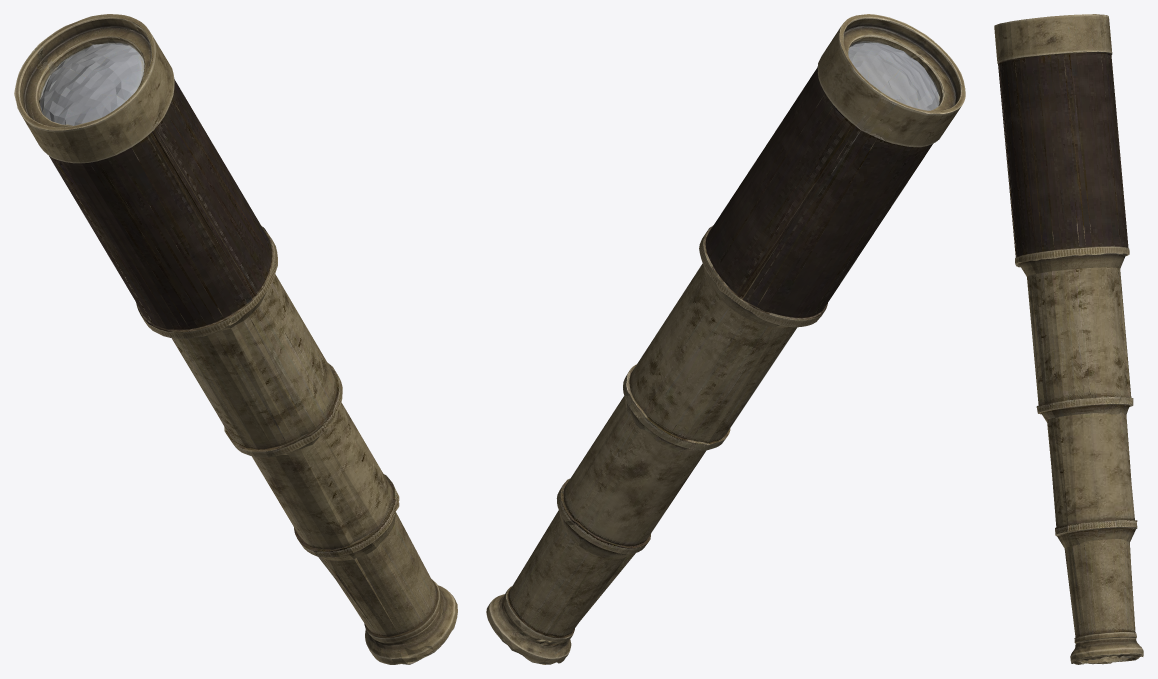
The model's file is ewm_spyglass.glb.
3 views of the same model, side by side, from view 1: azimuth 30°, elevation 25°; view 2: azimuth 150°, elevation 25°; view 3: azimuth 270°, elevation 25° (orthographic). The views are drawn at different scales.
Visible parts, largest first — view 1: ewm_spyglass; view 2: ewm_spyglass; view 3: ewm_spyglass.
Boxes of the visible parts, x1=… form: ewm_spyglass: x1=14, y1=14, x2=457, y2=664; ewm_spyglass: x1=486, y1=14, x2=965, y2=664; ewm_spyglass: x1=994, y1=14, x2=1143, y2=664.
Size of the model in its own units: 0.2246 by 0.34 by 0.0841.
1 material, 1 textured.
